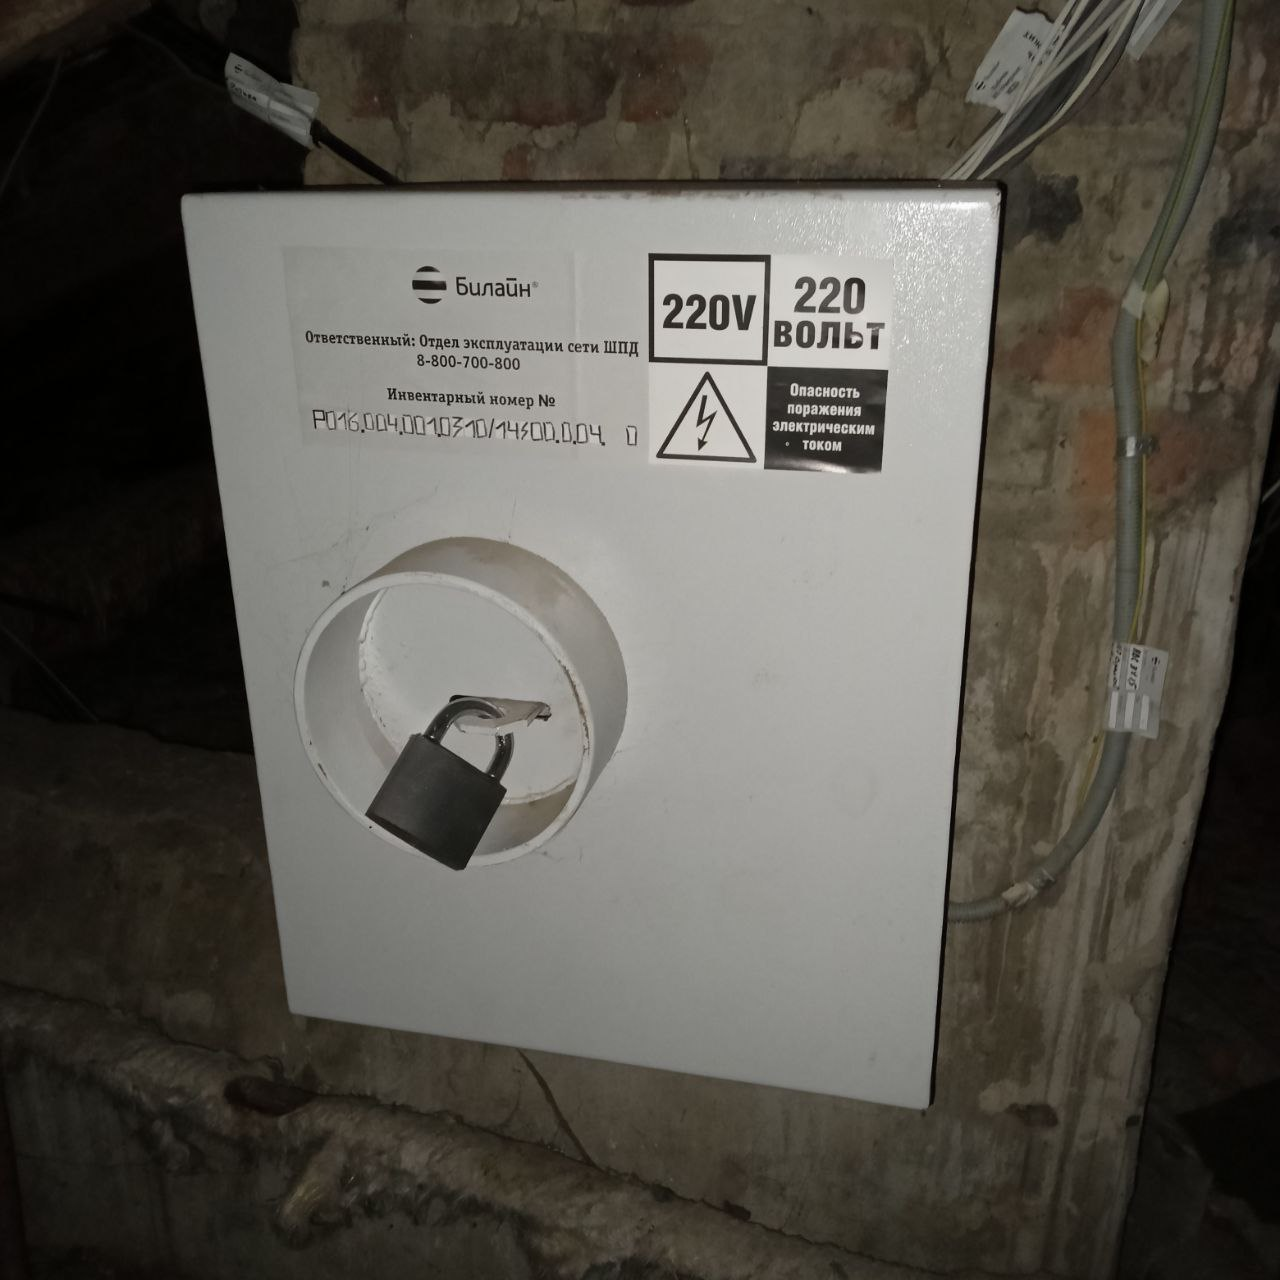shta-3: (173, 184, 1007, 1121)
